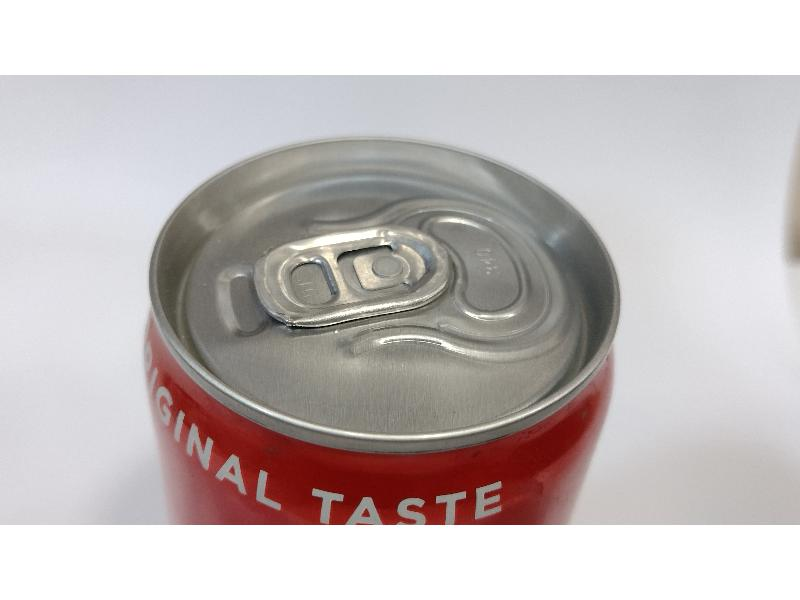can: (143, 132, 621, 522)
